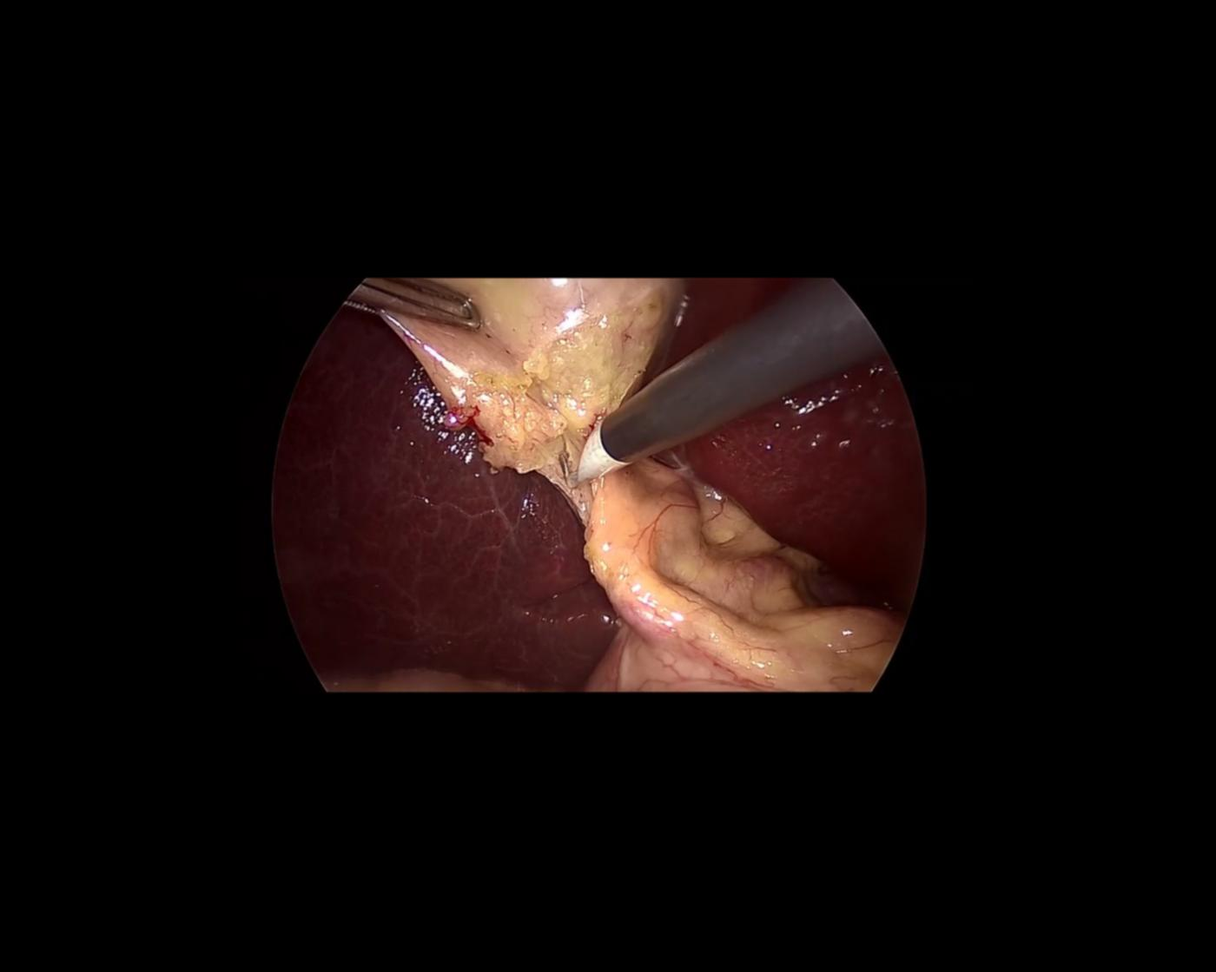Cautery: (527, 257, 887, 489)
Forceps: (348, 263, 489, 333)
Gallbladder: (378, 278, 688, 474)
Liver: (146, 292, 670, 813), (590, 232, 1021, 641)
